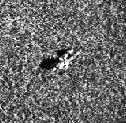man: (50, 45, 82, 73)
